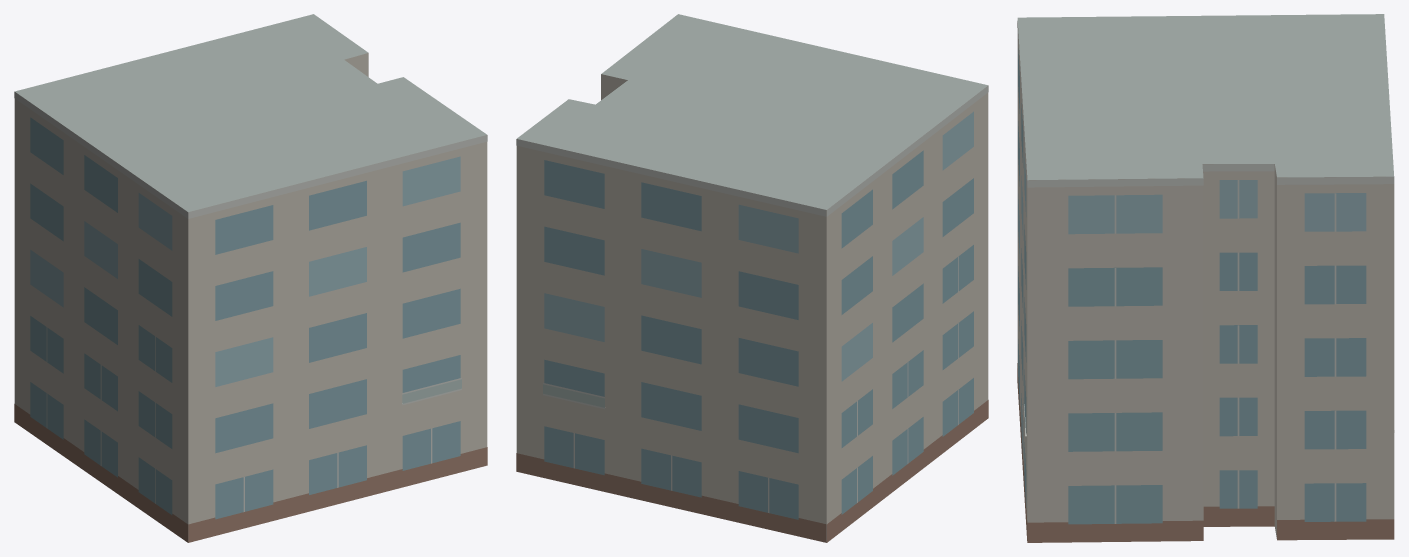
File: survey-upis-33037636.glb
3 views of the same model, side by side, from view 1: azimuth 30°, elevation 25°; view 2: azimuth 150°, elevation 25°; view 3: azimuth 270°, elevation 25° (orthographic). The views are drawn at different scales.
Parts seen in each view (by area): view 1: survey-upis-33037636.tmp; view 2: survey-upis-33037636.tmp; view 3: survey-upis-33037636.tmp.
Part boxes in pixels (x1,y1,x2,y2): survey-upis-33037636.tmp: [14, 14, 487, 542]; survey-upis-33037636.tmp: [516, 14, 988, 542]; survey-upis-33037636.tmp: [1017, 14, 1394, 542].
Bounding box in the file's own units: 11.7 × 11.9 × 11.22.
